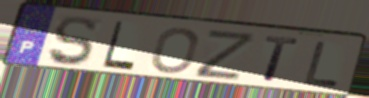L: (99, 19, 137, 72), (301, 40, 341, 89)
O: (149, 26, 201, 75)
S: (46, 15, 98, 68)
T: (262, 34, 302, 85)
Z: (192, 28, 260, 83)
